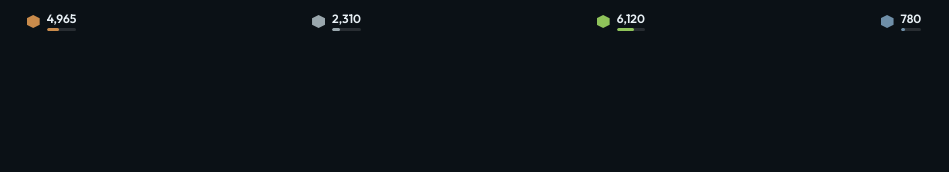
ResourceBar (compact / mobile) › tapping any pill cycles ALL pills together through stock -> rate -> max -> stock
This screenshot has width=949, height=172.
Expected: the text "4,965" is shown, [47,12,76,26]
Expected: the text "2,310" is shown, [332,12,361,26]
Click the button with class "resource--compact" showing "4,965".
click(52, 21)  # box [27,12,76,31]
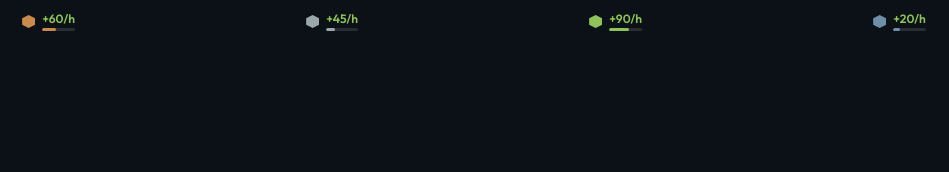
Expected: the text "+60/h" is shown, [42,12,75,26]
Expected: the text "+45/h" is shown, [326,12,358,26]
Click the button with class "resource--compact" showing "+60/h".
click(49, 21)  # box [22,12,75,31]
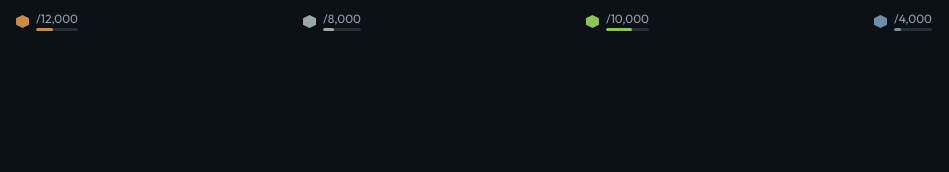
Expected: the text "/12,000" is shown, [36,12,78,26]
Expected: the text "/8,000" is shown, [323,12,361,26]
// Tapping a *different* pill still advances the one shared stage.
Click the button with class "resource--compact" showing "/8,000".
click(332, 21)  # box [303,12,361,31]
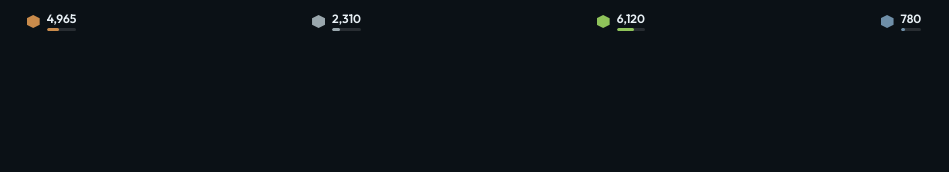
Expected: the text "4,965" is shown, [47,12,76,26]
Expected: the text "2,310" is shown, [332,12,361,26]
